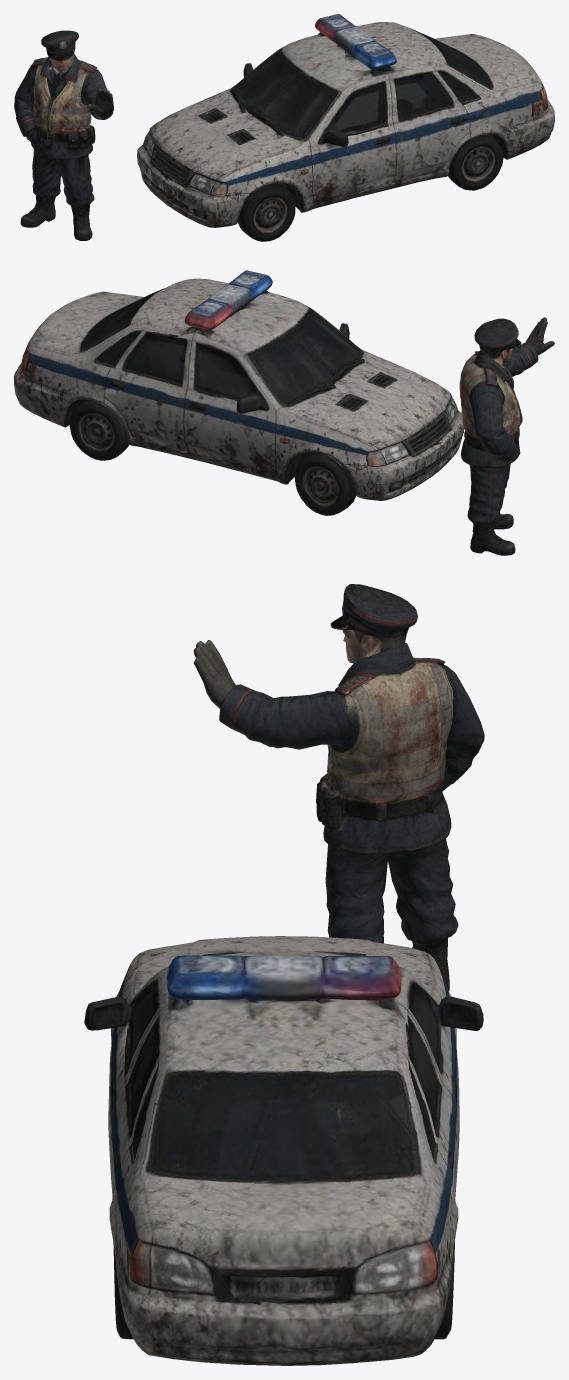
The model's file is post2.glb.
3 views of the same model, one above another, from view 1: azimuth 30°, elevation 25°; view 2: azimuth 150°, elevation 25°; view 3: azimuth 270°, elevation 25° (orthographic). The views are drawn at different scales.
Bounding box in the file's own units: 190 × 76.07 × 69.34.
1 material, 1 textured.
